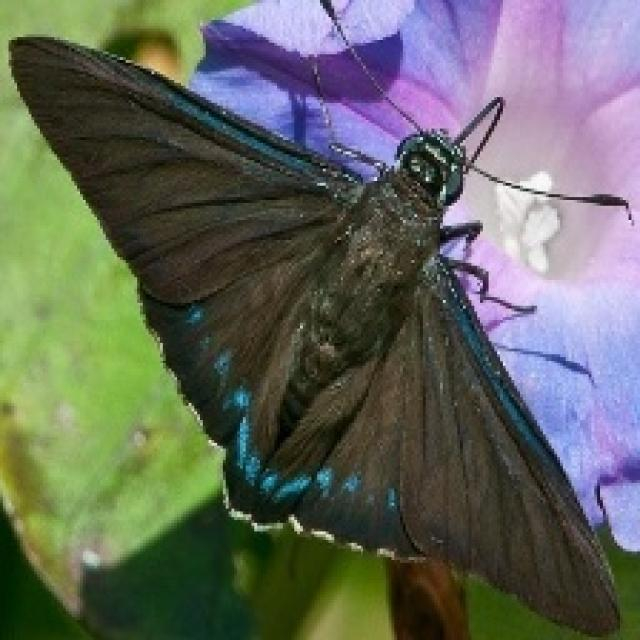butterfly: (6, 0, 634, 637)
